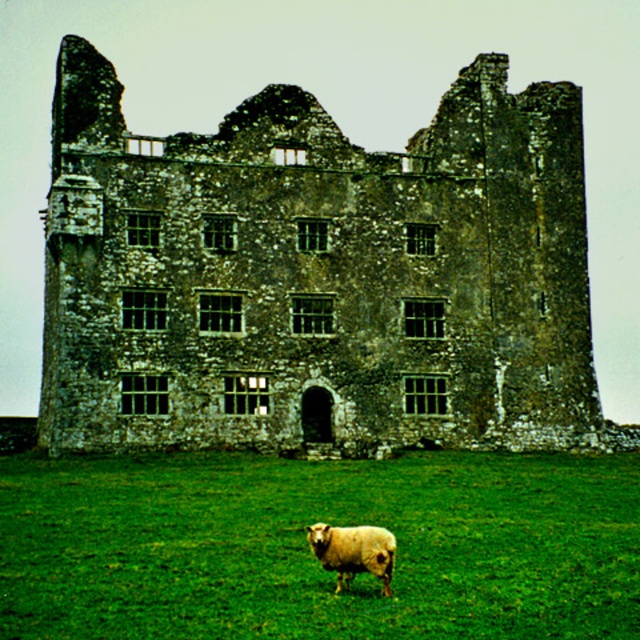Sheep: (309, 519, 396, 601)
